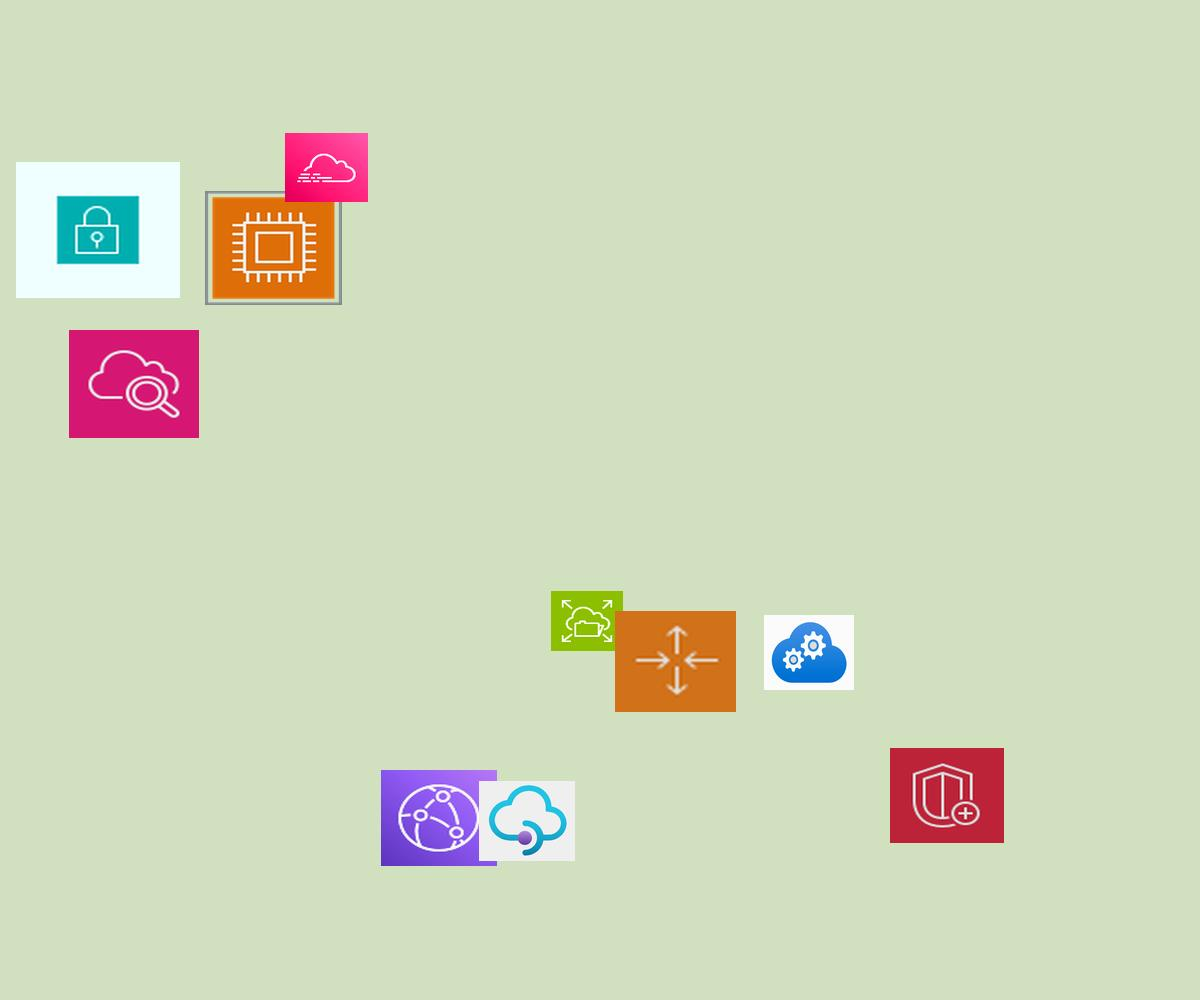AWS-Category_Compute: (205, 191, 342, 305)
AWS-CloudFront: (381, 770, 497, 866)
AWS-CloudTrail: (285, 133, 368, 202)
AWS-CloudWatch: (69, 330, 199, 438)
AWS-EFS: (551, 591, 623, 651)
AWS-Private-subnet: (16, 162, 180, 298)
AWS-Scaling-group: (615, 611, 736, 712)
AWS-Shield: (890, 748, 1004, 843)
Azure_api_gateway: (479, 781, 575, 861)
Azure_cloud_services: (764, 615, 854, 690)
